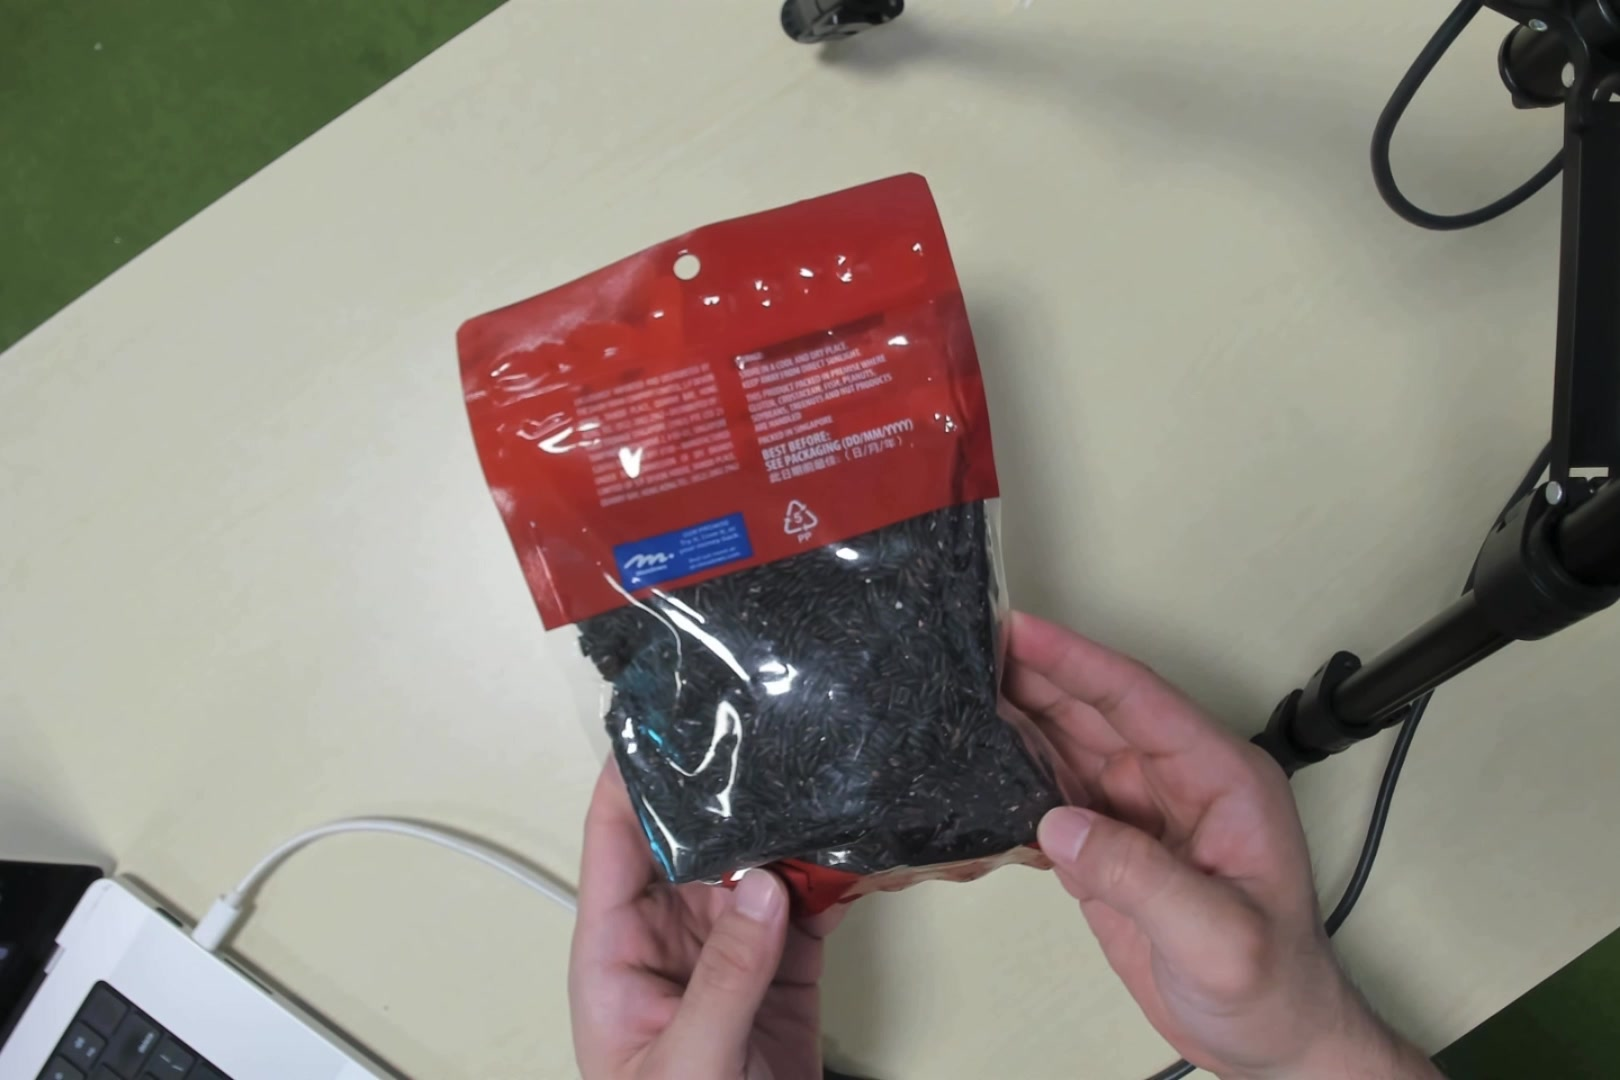OtherDriedFood_100-199g_NonHalal_NonHealthy: (565, 225, 1056, 884)
